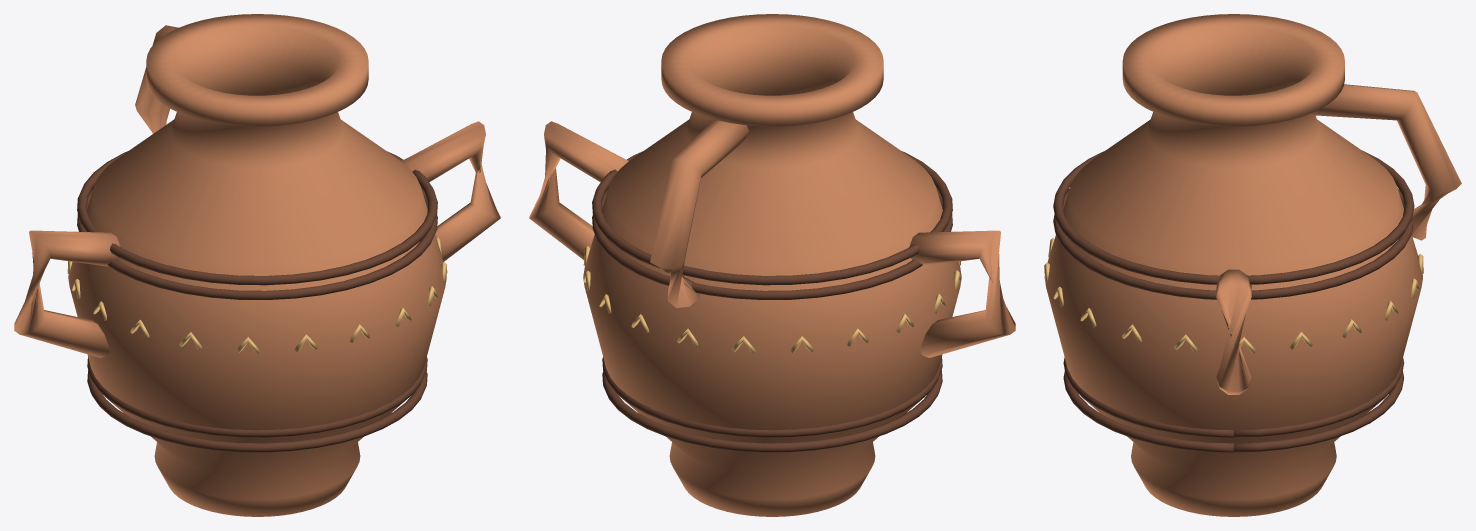
Rendered from hydria.glb.
3 views of the same model, side by side, from view 1: azimuth 30°, elevation 25°; view 2: azimuth 150°, elevation 25°; view 3: azimuth 270°, elevation 25° (orthographic).
Visible parts, largest first — view 1: hydria__clay, hydria__slip, hydria__ochre; view 2: hydria__clay, hydria__slip, hydria__ochre; view 3: hydria__clay, hydria__slip, hydria__ochre.
Part boxes in pixels (<box>): hydria__clay: <box>14,14,500,516</box>; hydria__slip: <box>77,151,437,452</box>; hydria__ochre: <box>67,237,447,353</box>; hydria__clay: <box>529,14,1015,516</box>; hydria__slip: <box>592,151,952,452</box>; hydria__ochre: <box>583,246,961,353</box>; hydria__clay: <box>1044,14,1461,516</box>; hydria__slip: <box>1053,150,1414,452</box>; hydria__ochre: <box>1044,238,1423,353</box>.
Size of the model in its own units: 1.35 by 1.15 by 1.01.
